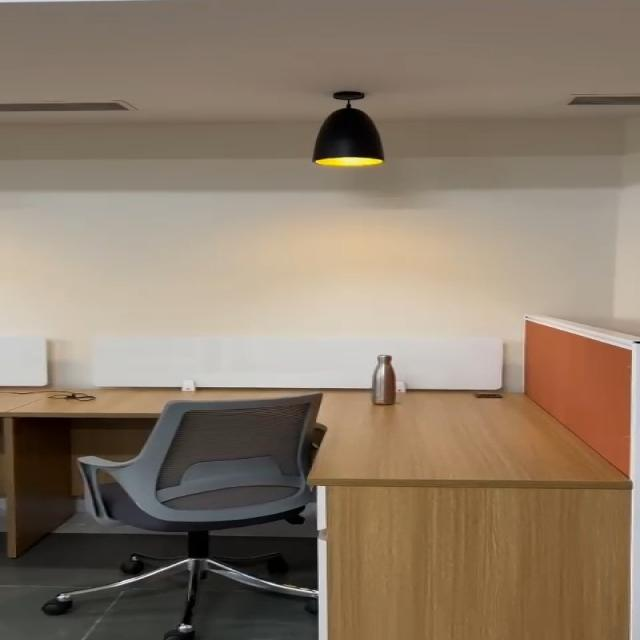furniture: (75, 383, 309, 628)
wall: (11, 95, 640, 309)
